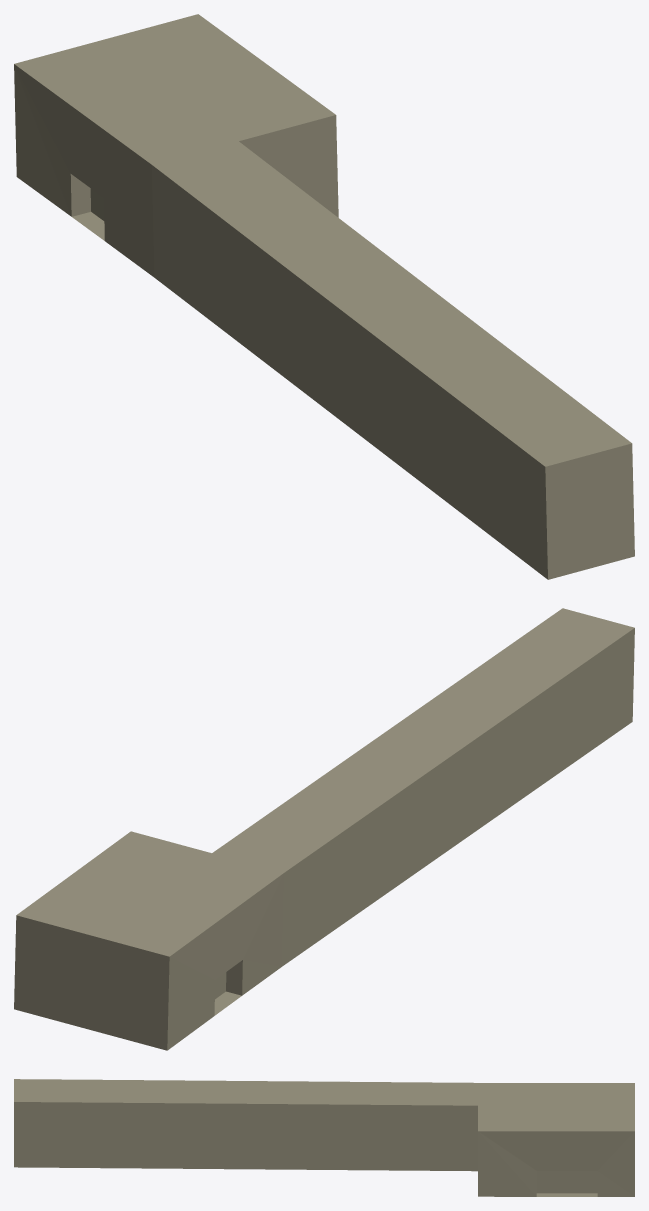
File: MuroCTA.fbx
3 views of the same model, one above another, from view 1: azimuth 30°, elevation 25°; view 2: azimuth 150°, elevation 25°; view 3: azimuth 270°, elevation 25° (orthographic). The views are drawn at different scales.
Visible parts, largest first — view 1: polySurface53; view 2: polySurface53; view 3: polySurface53.
Part boxes in pixels (<box>): polySurface53: <box>14,14,634,579</box>; polySurface53: <box>14,608,634,1050</box>; polySurface53: <box>14,1079,634,1196</box>.
Bounding box in the file's own units: 29.77 × 16.81 × 140.
